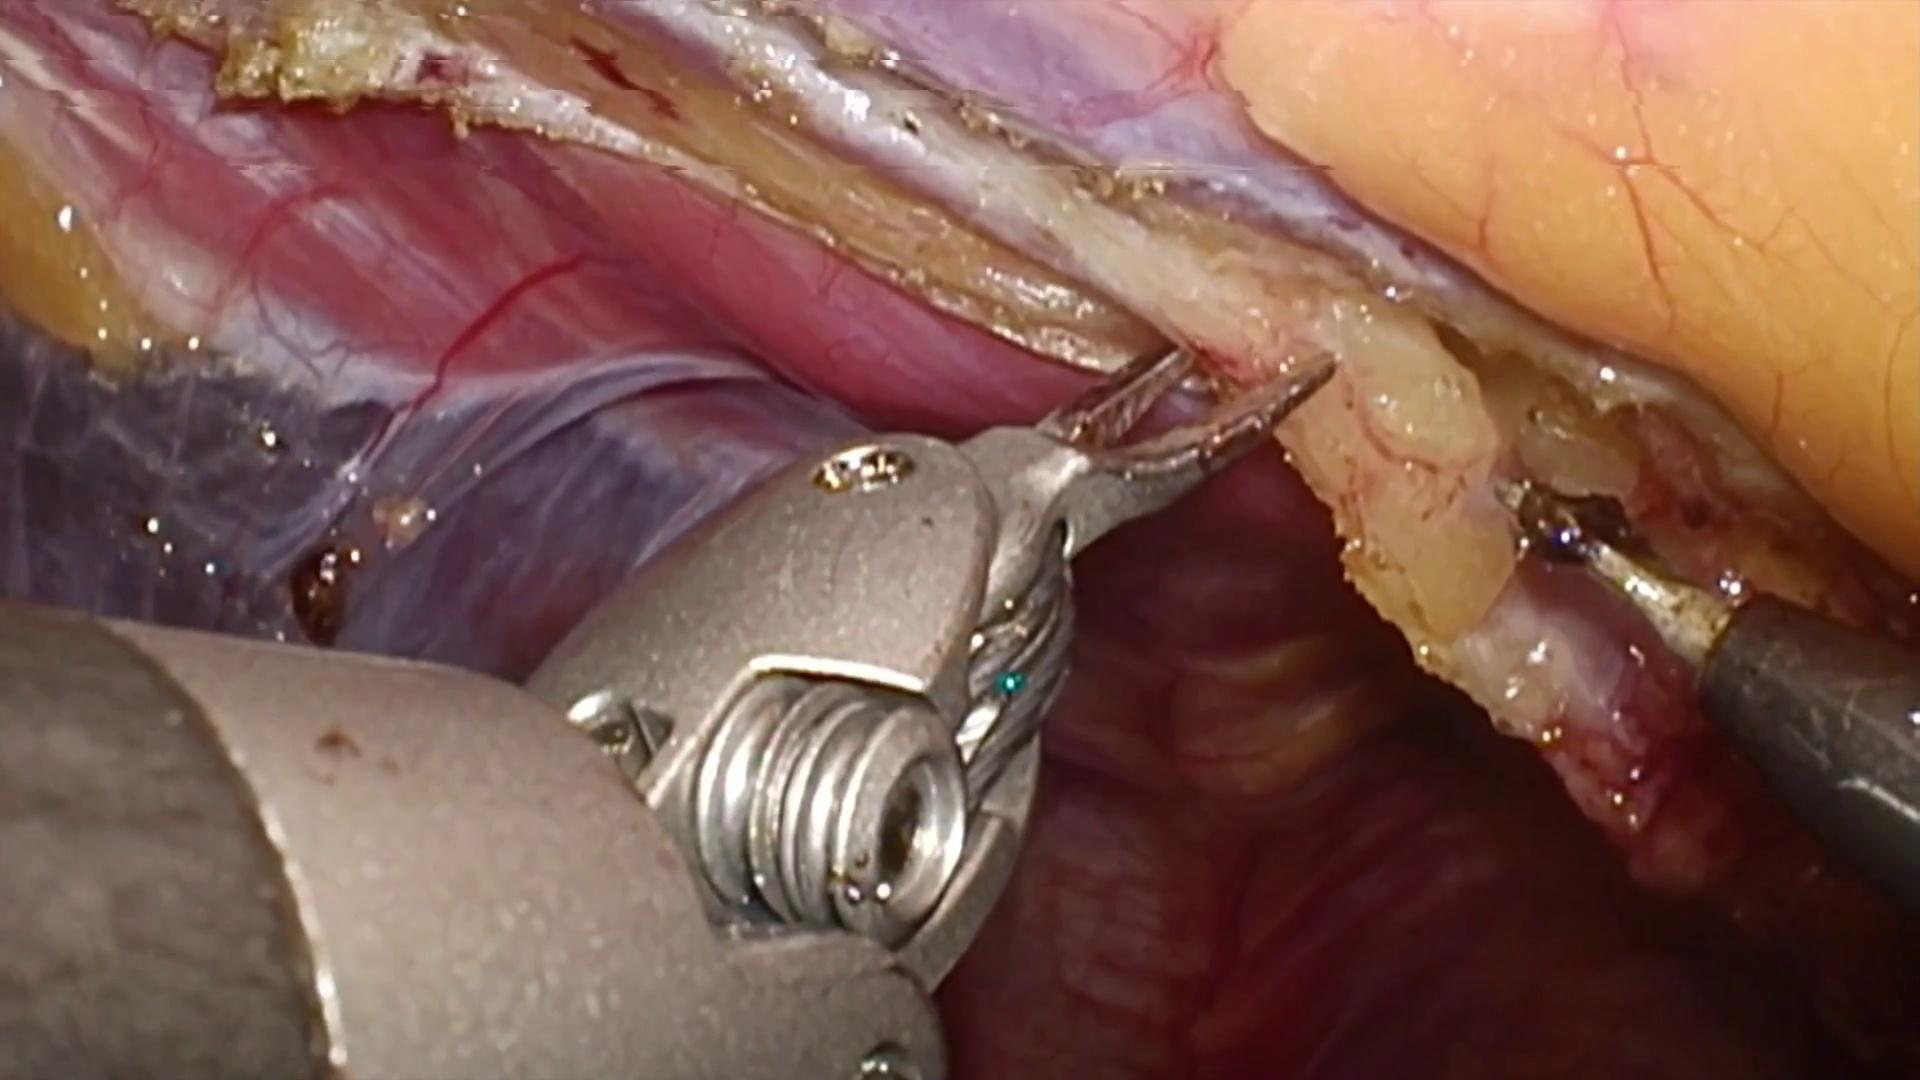Cautery_Spatula: (1495, 479, 1920, 926)
Debakey: (960, 318, 1345, 587)
